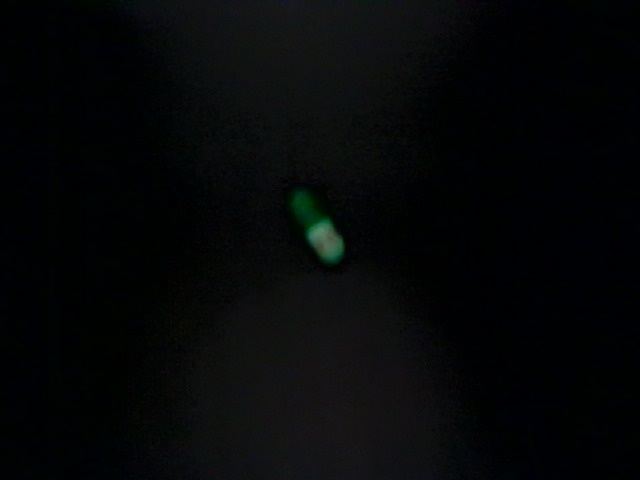YHLJ: (457, 303, 465, 316)
